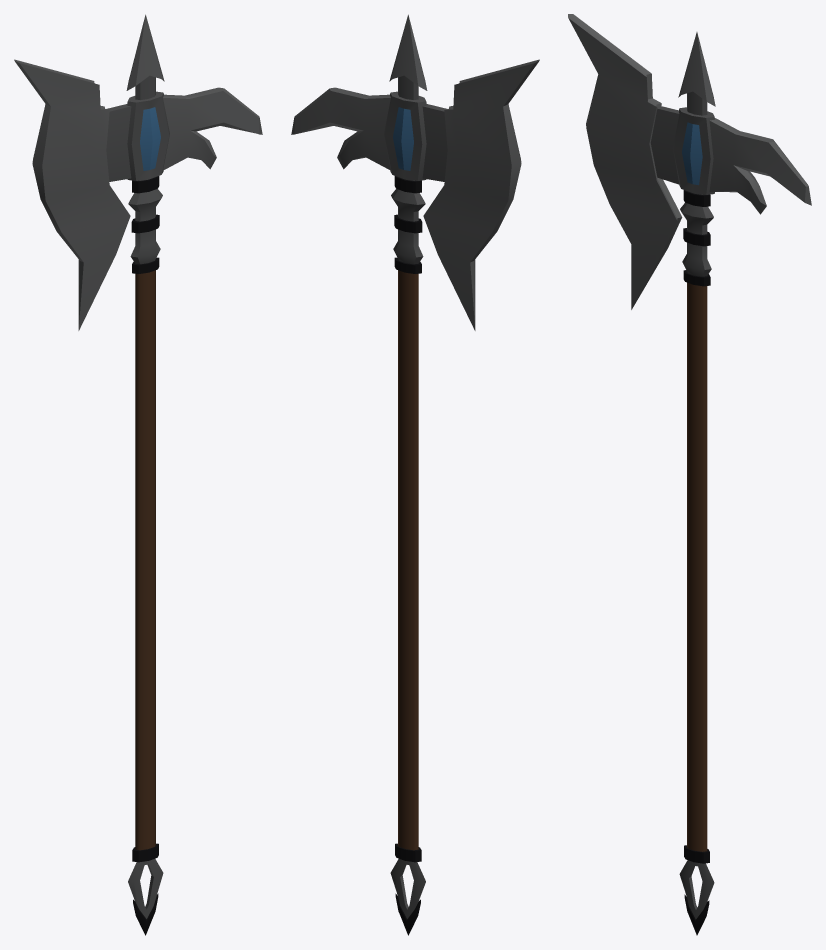
Rendered from Halberd.fbx.
3 views of the same model, side by side, from view 1: azimuth 30°, elevation 25°; view 2: azimuth 150°, elevation 25°; view 3: azimuth 330°, elevation 25° (orthographic).
Parts seen in each view (by area): view 1: Cylinder; view 2: Cylinder; view 3: Cylinder.
Part boxes in pixels (x1=…): Cylinder: x1=14, y1=14, x2=262, y2=935; Cylinder: x1=291, y1=14, x2=539, y2=935; Cylinder: x1=568, y1=14, x2=811, y2=935.
Bounding box in the file's own units: 0.4623 × 1.64 × 0.0451.
